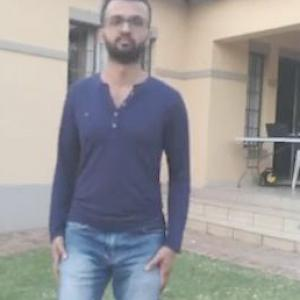follow: (57, 8, 181, 299)
